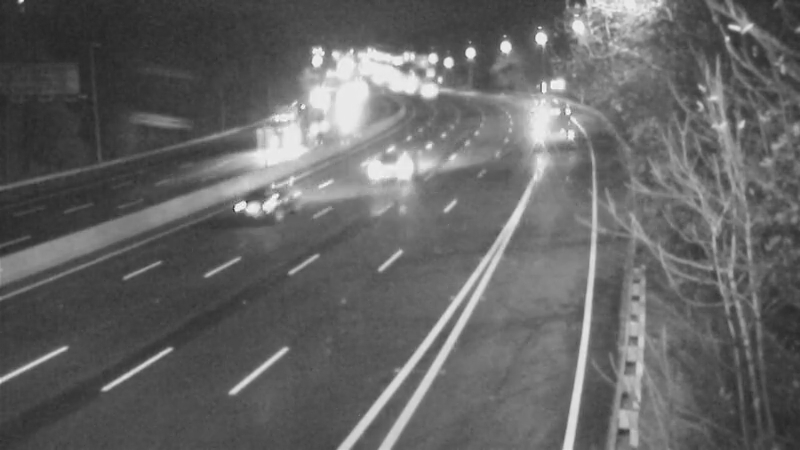vehicle: (339, 131, 419, 211), (213, 168, 293, 248), (521, 93, 571, 143), (248, 119, 298, 169)
